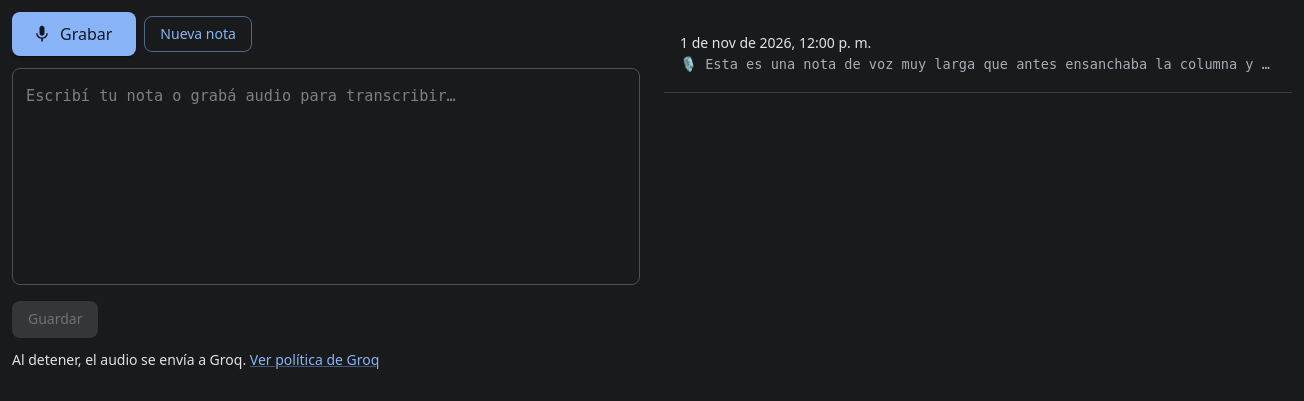
Test: Señales de grabación (UI-08) › «Cancelar grabación» sigue disponible y retira las señales sin transcribir
Click the button "Grabar": (74, 34) left=12, top=12, right=136, bottom=56
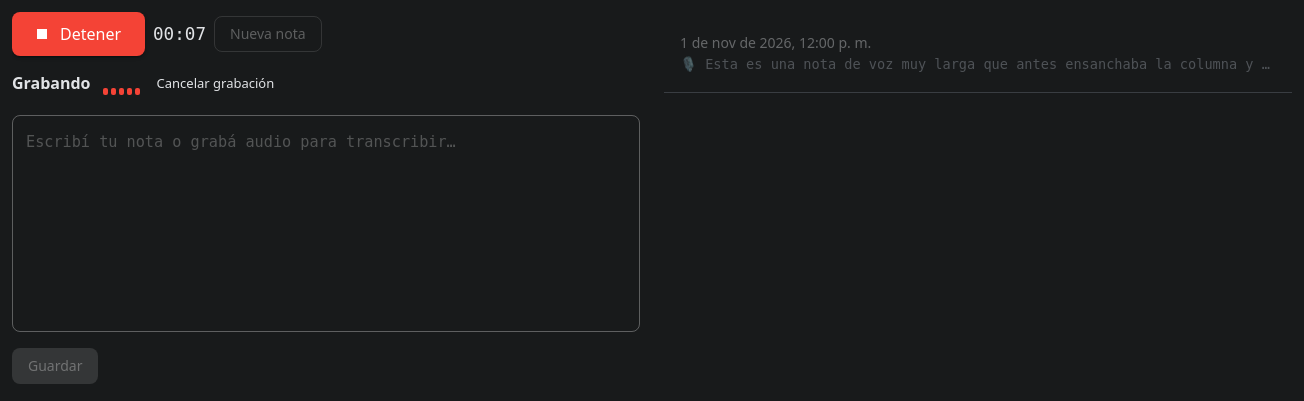
Click the button "Cancelar grabación": (215, 83) left=152, top=68, right=279, bottom=99
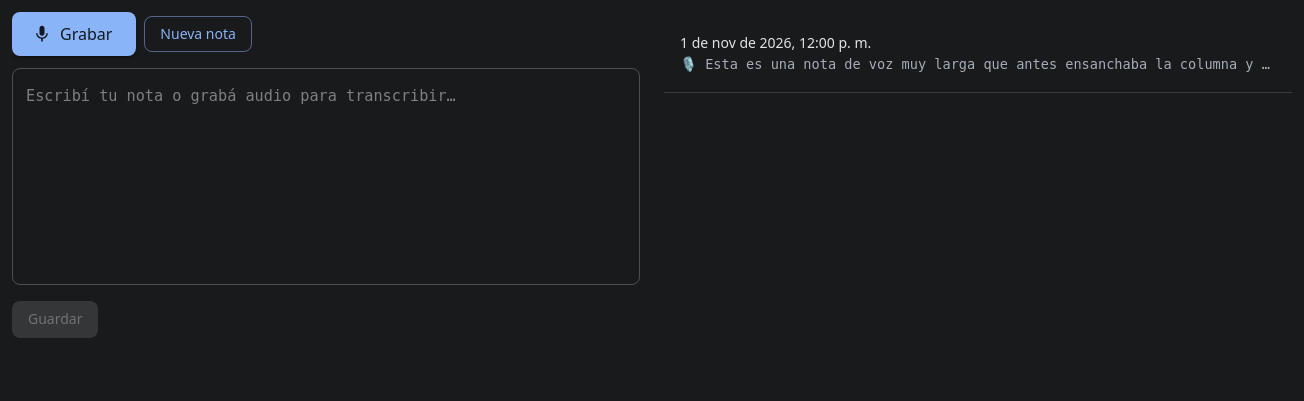
Check: the button "Grabar" is shown, box left=12, top=12, right=136, bottom=56
